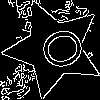O: (29, 24, 88, 78)
